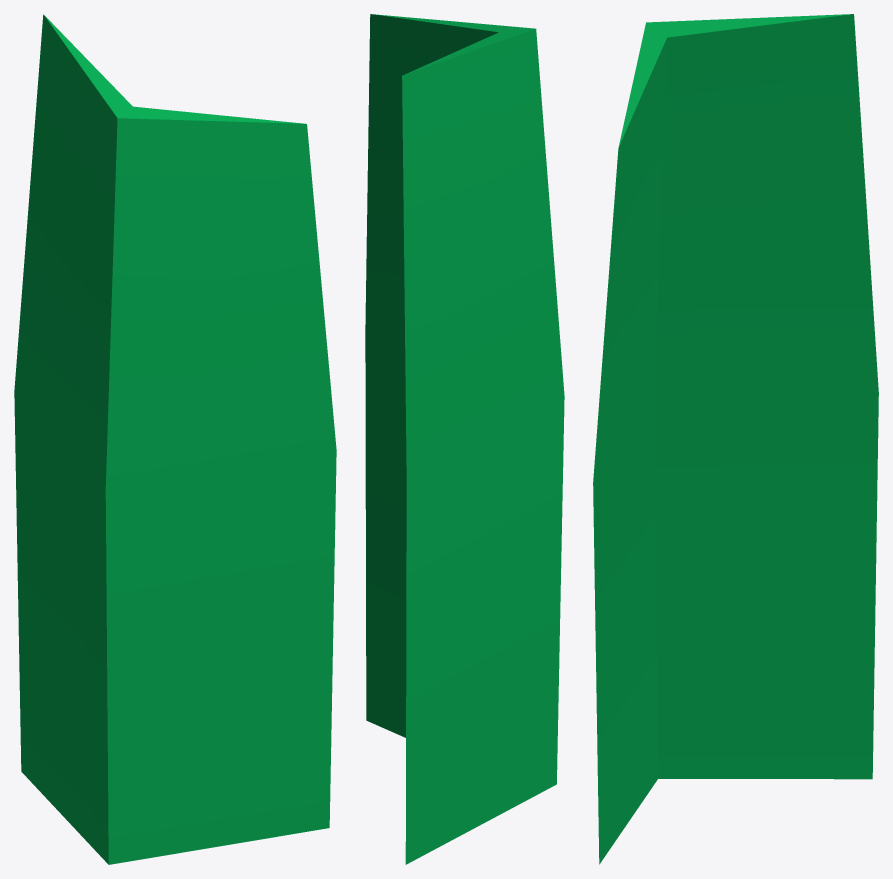
File: shortGrassB.fbx
The picture shows the model from 3 angles, left to right: view 1: azimuth 30°, elevation 25°; view 2: azimuth 150°, elevation 25°; view 3: azimuth 270°, elevation 25°; orthographic projection. The views are drawn at different scales.
Parts seen in each view (by area): view 1: ShortGrassB; view 2: ShortGrassB; view 3: ShortGrassB.
Boxes of the visible parts, x1,y1,x2,y2 form: ShortGrassB: (14, 14, 336, 864); ShortGrassB: (365, 14, 564, 864); ShortGrassB: (593, 14, 878, 864).
Size of the model in its own units: 1.03 by 3.53 by 1.19.
